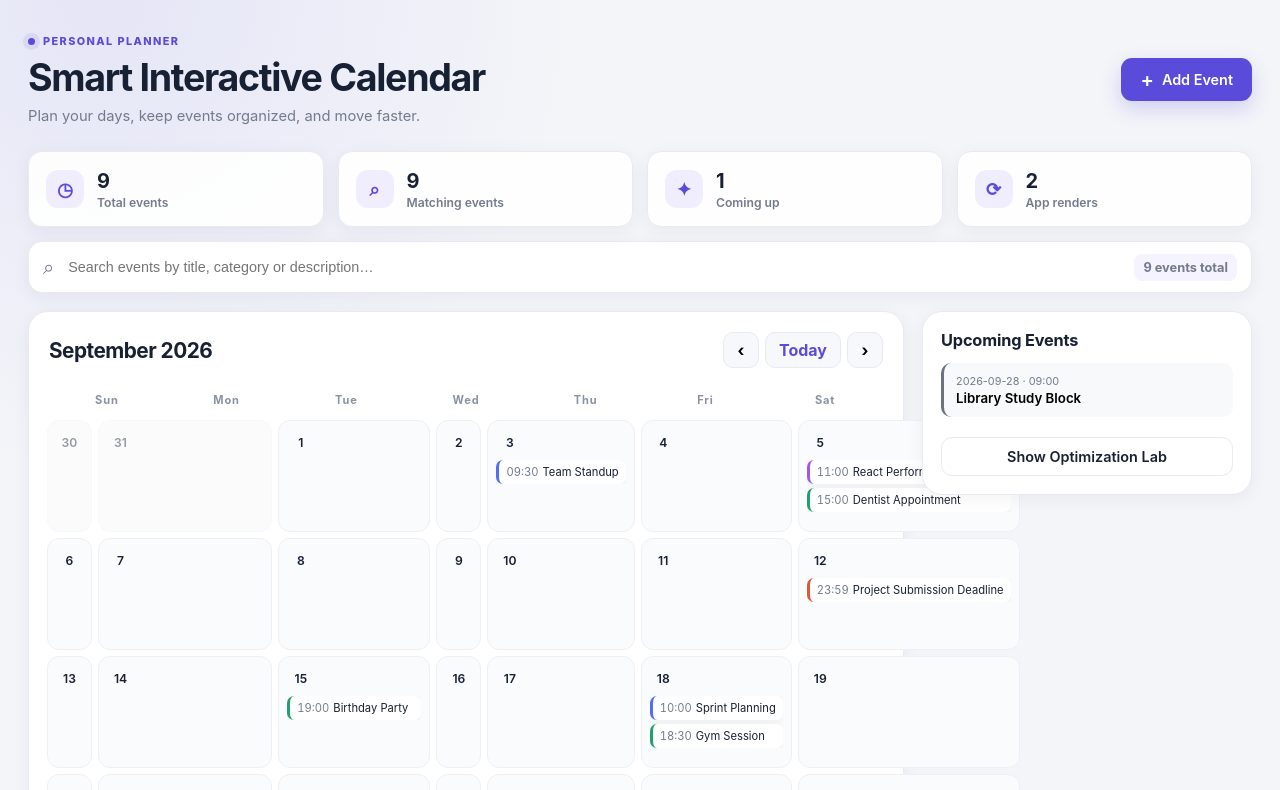
Test case: Event interaction › lets the user edit an existing event
Expected: the text "Team Standup" is shown, 542,465 -> 619,479
Click the text "Gym Session".
click(730, 736)  # box 696,729 -> 765,743
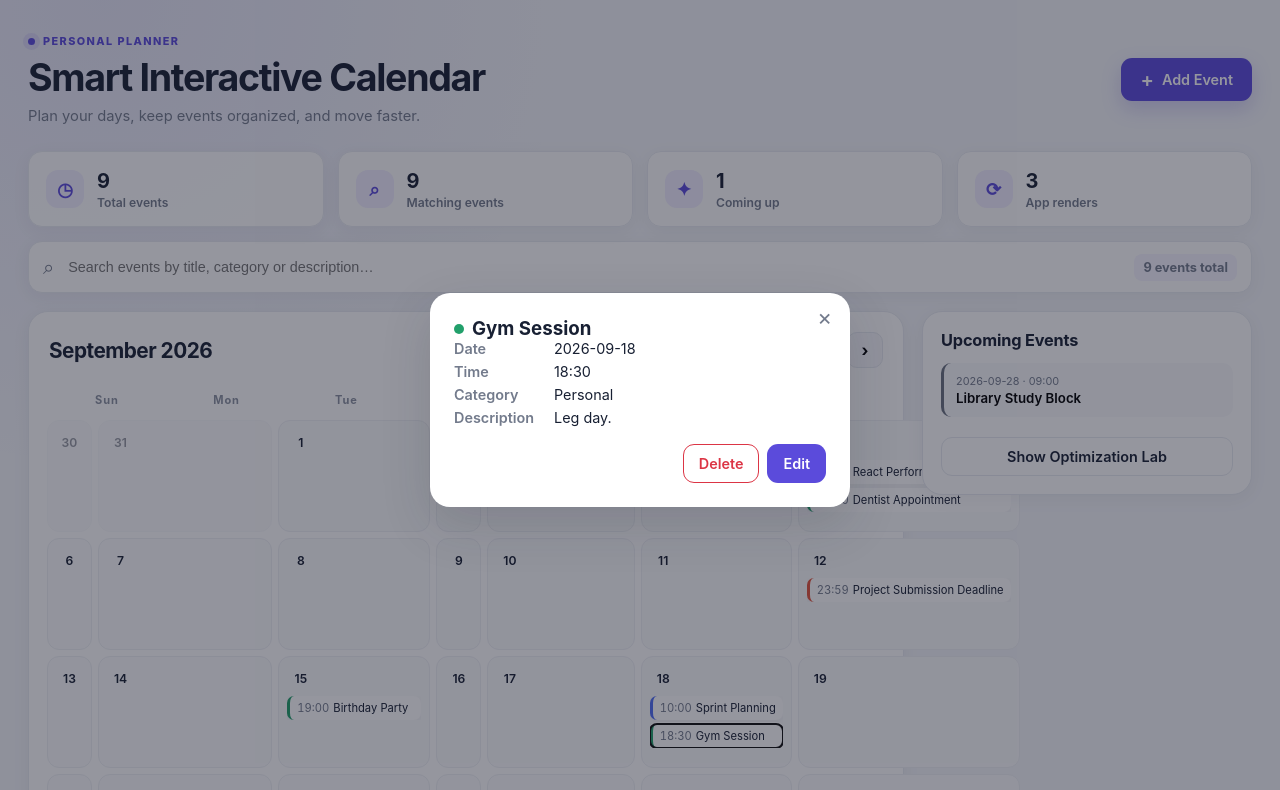
Click the button "Edit".
click(797, 464)  # box 768,444 -> 826,483
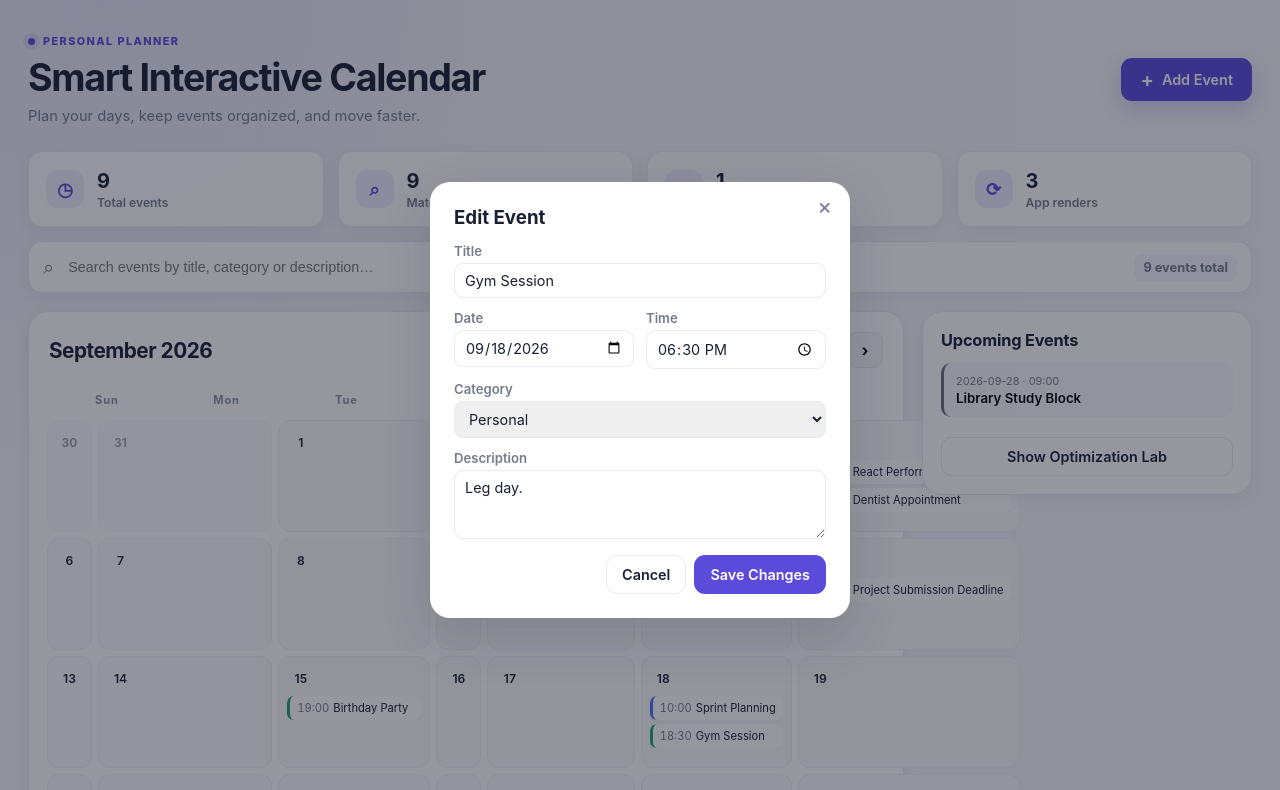
Replace the text in the field labelled "Title" with "Evening Gym Session" at coordinates (640, 280), box 454,263 -> 826,298
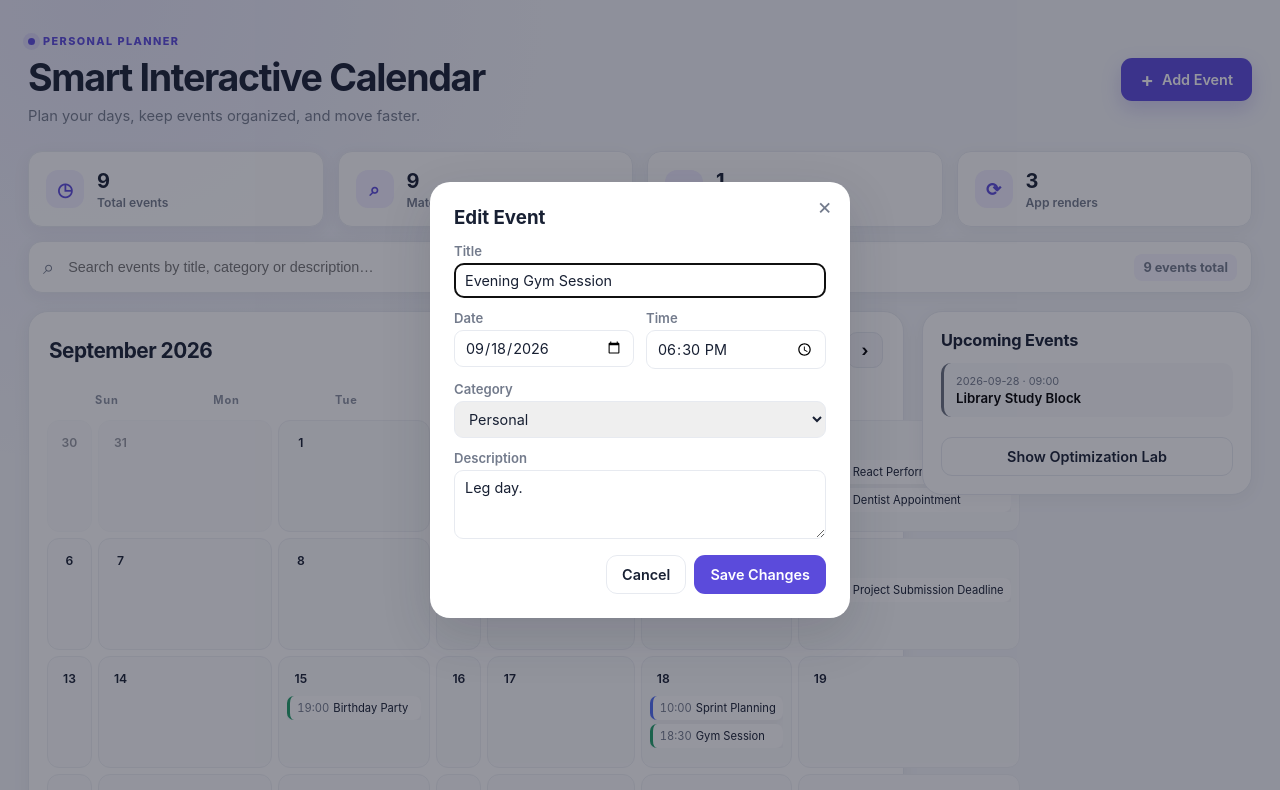
Click the button "Save Changes".
click(760, 574)  # box 694,555 -> 826,594
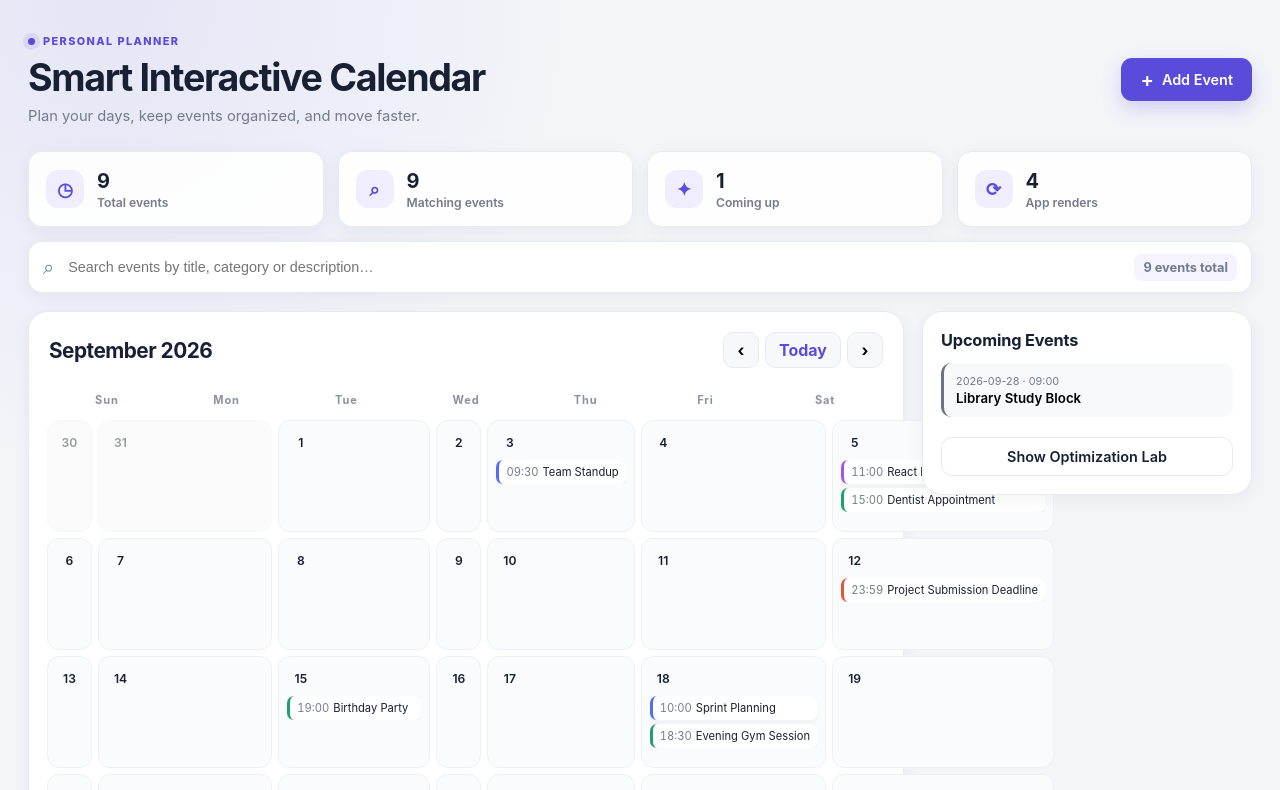
Expected: the text "Evening Gym Session" is shown, 696,729 -> 810,743
